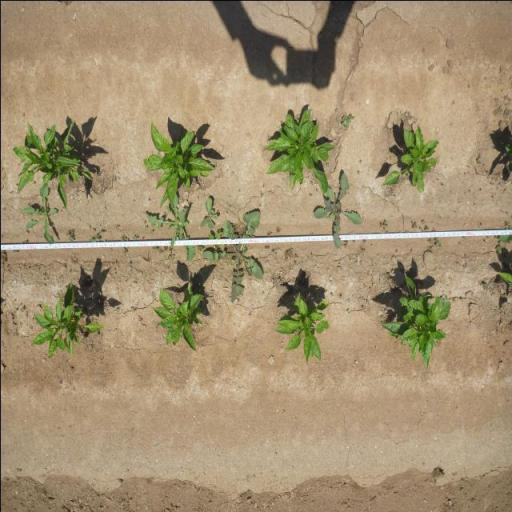plant: (10, 115, 94, 211), (378, 275, 453, 367), (141, 117, 216, 208), (262, 107, 337, 195), (30, 278, 101, 360), (272, 290, 330, 365), (378, 123, 437, 195), (149, 278, 205, 353)
weed: (198, 207, 265, 303), (310, 170, 364, 248), (145, 194, 195, 262), (22, 182, 56, 245), (198, 196, 220, 230), (208, 228, 224, 248), (282, 246, 298, 261), (340, 112, 354, 129), (64, 228, 77, 243), (378, 218, 388, 230), (167, 247, 175, 260), (88, 234, 98, 242), (409, 219, 417, 229), (434, 237, 442, 247), (495, 240, 501, 253), (119, 233, 127, 241), (440, 294, 448, 302), (158, 246, 167, 253), (195, 244, 203, 251), (341, 240, 348, 248), (275, 225, 281, 234), (266, 229, 272, 237), (263, 244, 270, 250), (482, 281, 488, 288), (98, 228, 104, 234), (152, 245, 158, 251), (132, 234, 137, 240), (424, 224, 429, 230), (122, 248, 126, 254), (143, 224, 147, 230), (364, 300, 370, 304)
